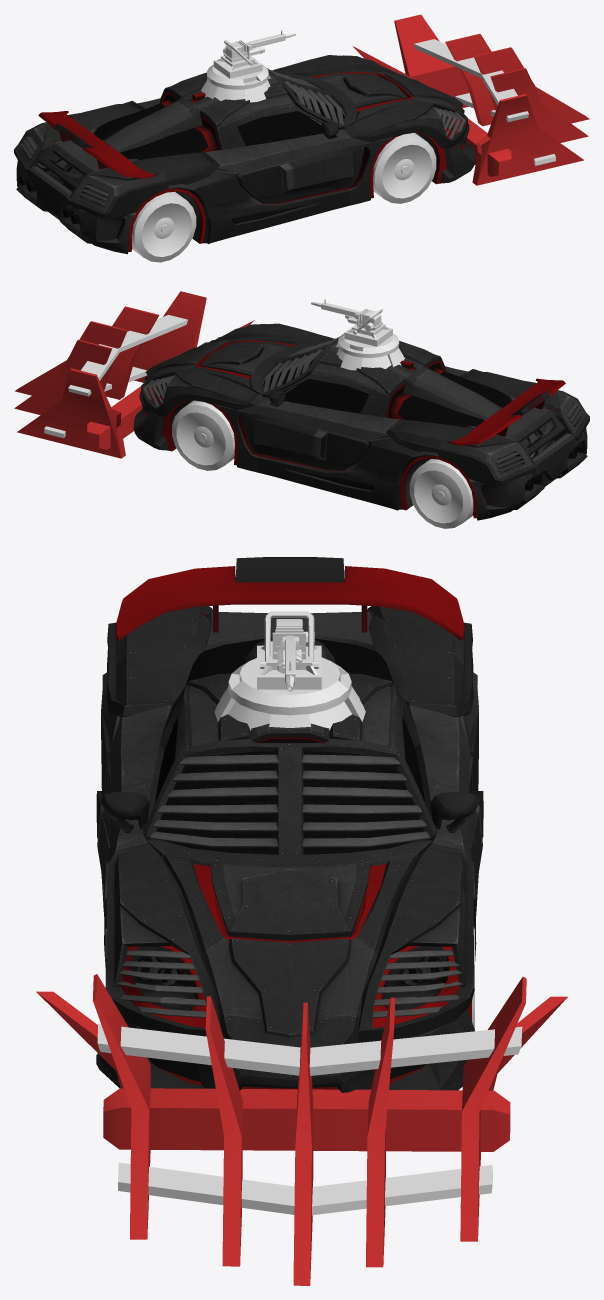
File: car_(5).fbx
3 renders of one model, top to bottom at view 1: azimuth 30°, elevation 25°; view 2: azimuth 150°, elevation 25°; view 3: azimuth 270°, elevation 25°, orthographic. The views are drawn at different scales.
Parts seen in each view (by area): view 1: Carrera_Main_Carrera_Main_MAT_0, Car.001_Circle.000_Glass_0.001, CarreraWheels_hubcap_MAT_0.003, CarreraWheels_hubcap_MAT_0.001, Top_Turret_Front_Guns_Weapons:TurretGun_MAT_0; view 2: Carrera_Main_Carrera_Main_MAT_0, Car.001_Circle.000_Glass_0.001, CarreraWheels_hubcap_MAT_0.004, CarreraWheels_hubcap_MAT_0.002, Top_Turret_Front_Guns_Weapons:TurretGun_MAT_0; view 3: Carrera_Main_Carrera_Main_MAT_0, Car.001_Circle.000_Glass_0.001, Top_Turret_Front_Guns_Weapons:TurretGun_MAT_0.
Boxes of the visible parts, x1,y1,x2,y2 form: Carrera_Main_Carrera_Main_MAT_0: (14, 55, 475, 254); Car.001_Circle.000_Glass_0.001: (353, 14, 589, 185); CarreraWheels_hubcap_MAT_0.003: (373, 133, 436, 203); CarreraWheels_hubcap_MAT_0.001: (131, 192, 196, 262); Top_Turret_Front_Guns_Weapons:TurretGun_MAT_0: (201, 30, 295, 102); Carrera_Main_Carrera_Main_MAT_0: (133, 323, 589, 520); Car.001_Circle.000_Glass_0.001: (14, 291, 254, 458); CarreraWheels_hubcap_MAT_0.004: (409, 459, 473, 528); CarreraWheels_hubcap_MAT_0.002: (172, 400, 234, 470); Top_Turret_Front_Guns_Weapons:TurretGun_MAT_0: (311, 299, 404, 370); Carrera_Main_Carrera_Main_MAT_0: (96, 557, 483, 1092); Car.001_Circle.000_Glass_0.001: (36, 974, 567, 1285); Top_Turret_Front_Guns_Weapons:TurretGun_MAT_0: (214, 611, 365, 730).
Bounding box in the file's own units: 549 × 159 × 235.
Materials: 5 (3 with a texture image).
